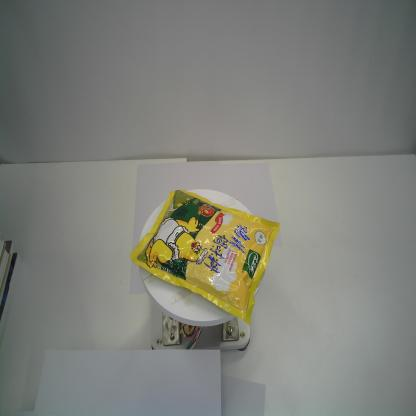Seasoner: (130, 187, 283, 328)
